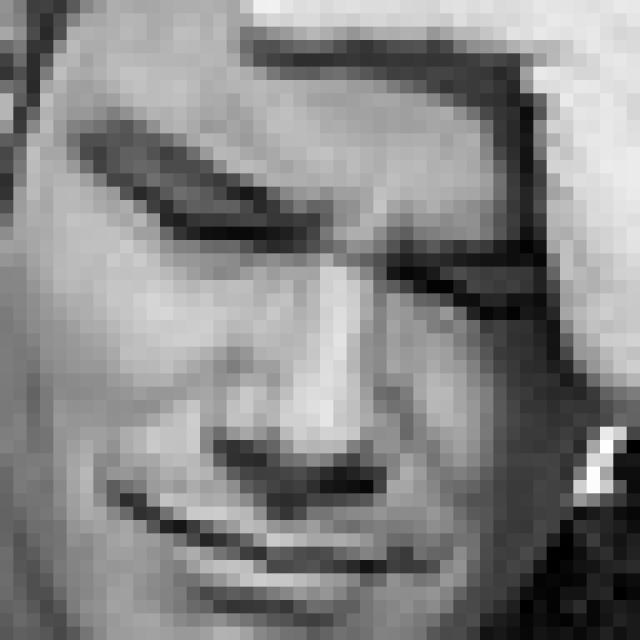sad: (65, 87, 568, 629)
